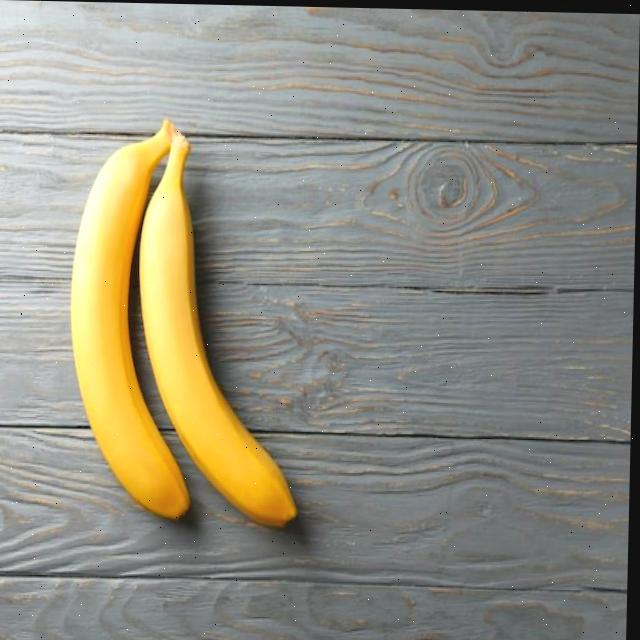banana: (64, 116, 322, 536)
